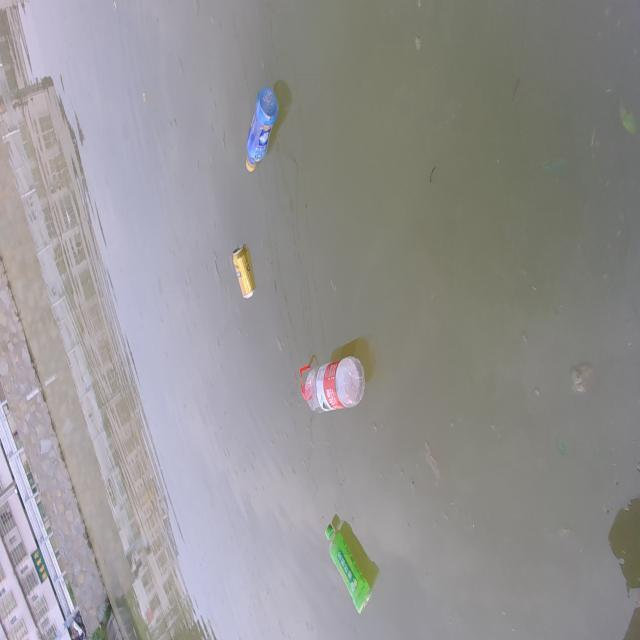garbage: (324, 513, 380, 615), (299, 355, 365, 413), (245, 86, 279, 172)
